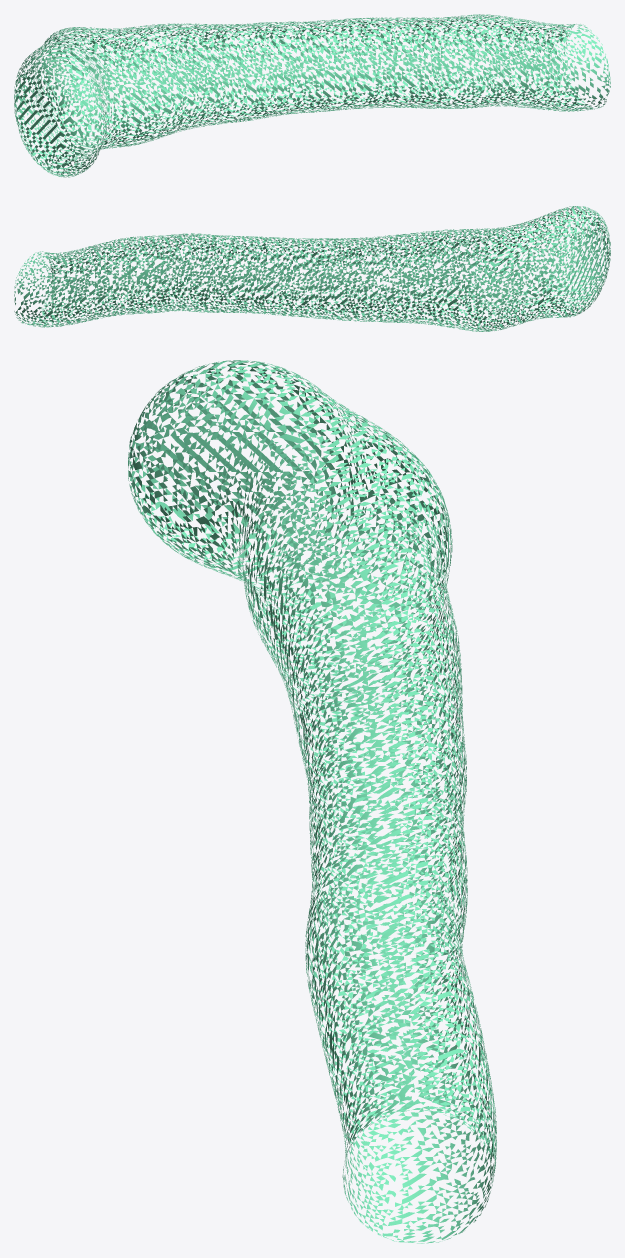
File: healthy.glb
3 views of the same model, one above another, from view 1: azimuth 30°, elevation 25°; view 2: azimuth 150°, elevation 25°; view 3: azimuth 270°, elevation 25° (orthographic). The views are drawn at different scales.
Size of the model in its own units: 122 by 44.63 by 37.61.
